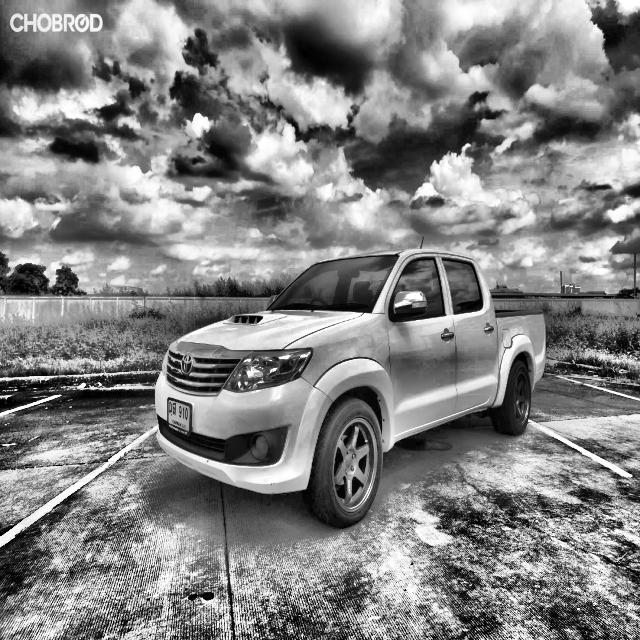license-plate: (165, 395, 195, 439)
